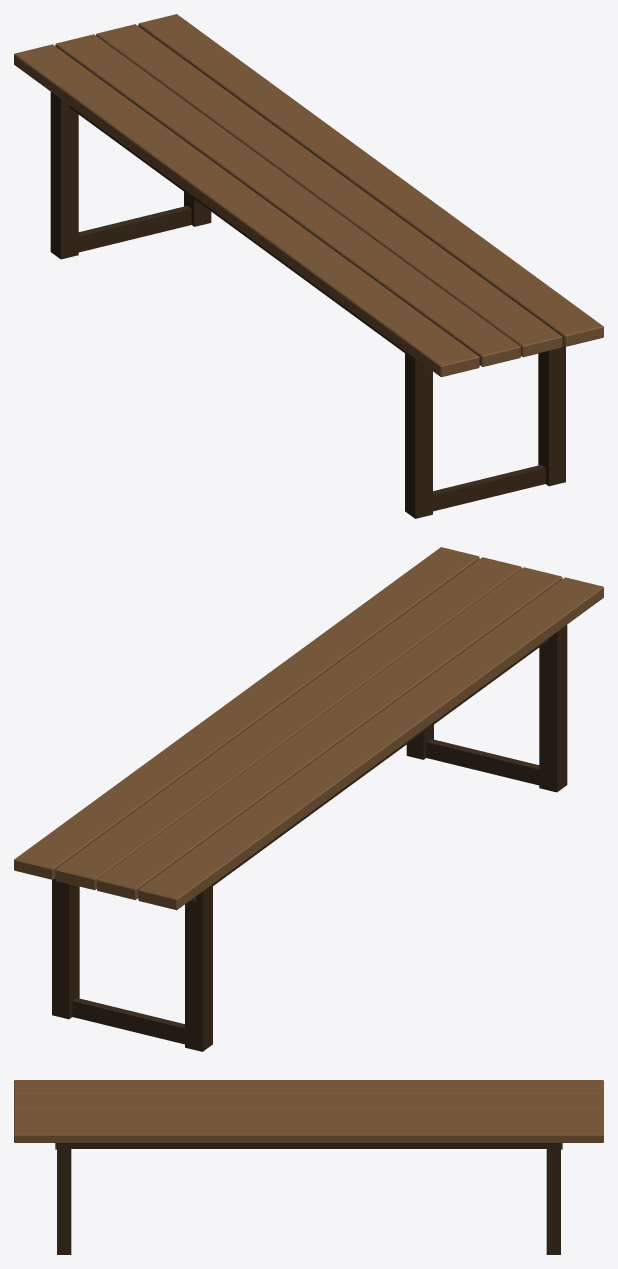
The picture shows the model from 3 angles, top to bottom: view 1: azimuth 30°, elevation 25°; view 2: azimuth 150°, elevation 25°; view 3: azimuth 270°, elevation 25°; orthographic projection. The views are drawn at different scales.
Parts seen in each view (by area): view 1: B_07_1; view 2: B_07_1; view 3: B_07_1.
Part boxes in pixels (x1,y1,x2,y2): B_07_1: (14, 14, 603, 518); B_07_1: (14, 547, 603, 1051); B_07_1: (14, 1080, 603, 1254).
Bounding box in the file's own units: 43.5 × 44.94 × 196.
